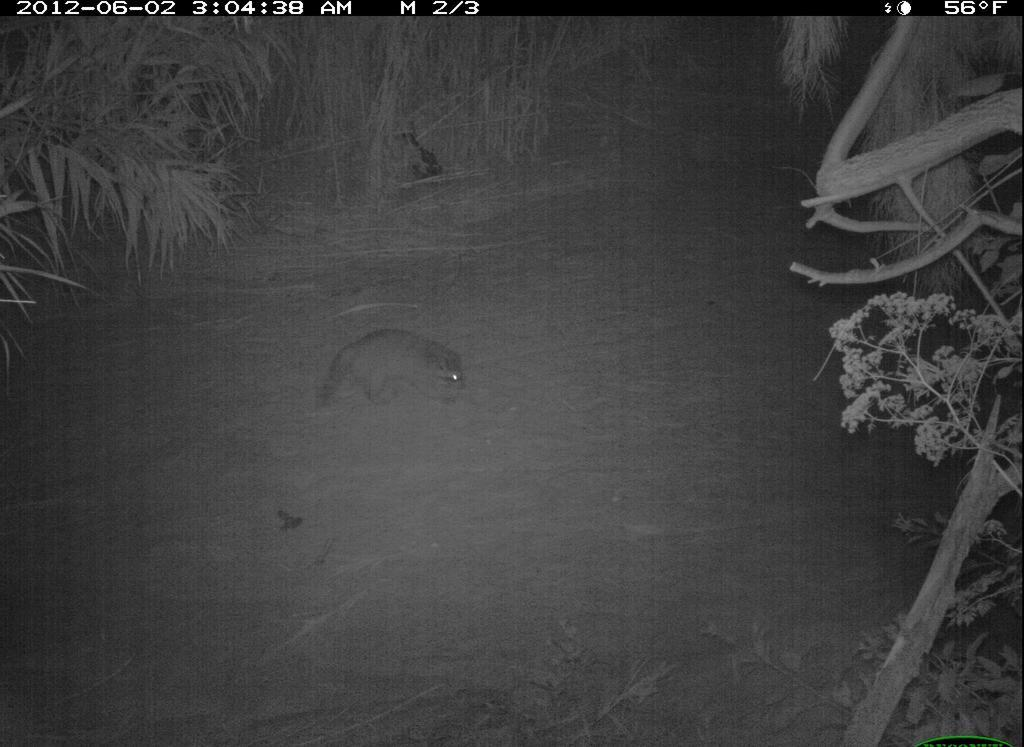raccoon: (299, 317, 481, 423)
